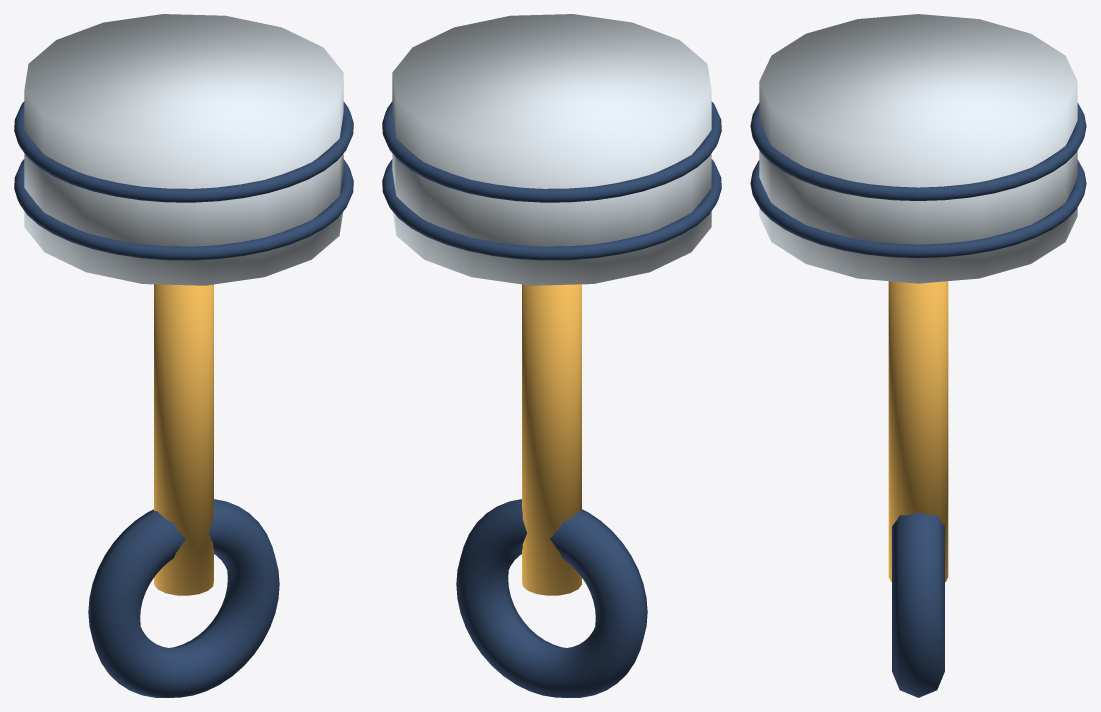
Rendered from piston-lite.glb.
3 renders of one model, left to right at view 1: azimuth 30°, elevation 25°; view 2: azimuth 150°, elevation 25°; view 3: azimuth 270°, elevation 25°, orthographic.
Parts seen in each view (by area): view 1: Piston crown; view 2: Piston crown; view 3: Piston crown.
Part boxes in pixels (left/top/right/bottom): Piston crown: left=14, top=14, right=353, bottom=697; Piston crown: left=382, top=14, right=721, bottom=697; Piston crown: left=750, top=14, right=1086, bottom=697.
Size of the model in its own units: 1.01 by 2.02 by 1.01.
